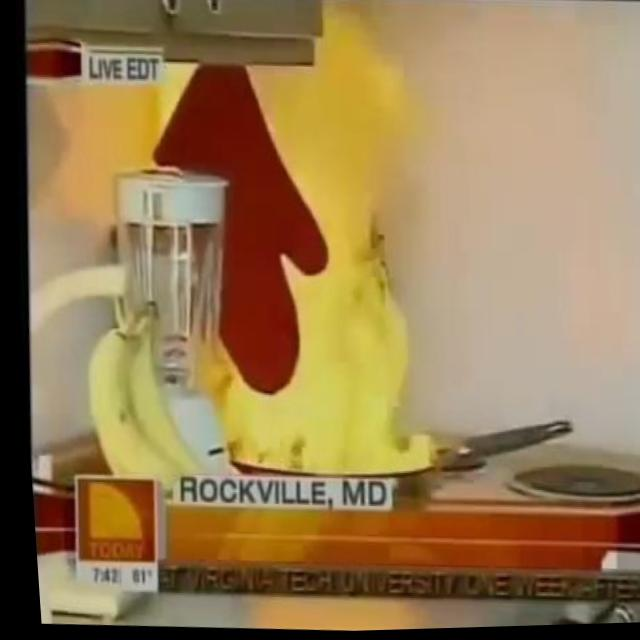fire: (128, 0, 458, 487)
